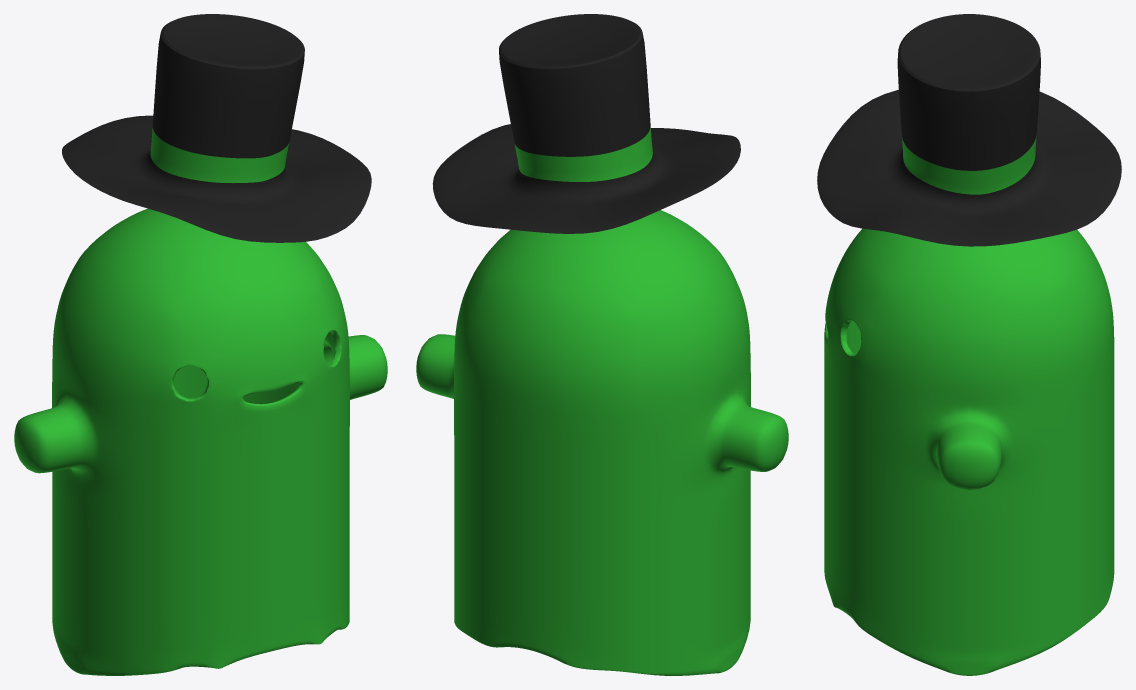
File: CuteGhost2.fbx
3 renders of one model, left to right at view 1: azimuth 30°, elevation 25°; view 2: azimuth 150°, elevation 25°; view 3: azimuth 270°, elevation 25°, orthographic. The views are drawn at different scales.
Visible parts, largest first — view 1: Ghost; view 2: Ghost; view 3: Ghost.
Part boxes in pixels (x1=…): Ghost: x1=14, y1=14, x2=387, y2=675; Ghost: x1=416, y1=14, x2=788, y2=675; Ghost: x1=817, y1=14, x2=1121, y2=675.
Bounding box in the file's own units: 16920 × 10604 × 7954.
